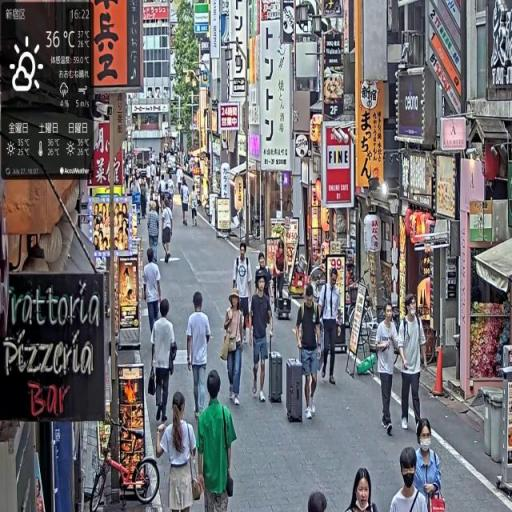person: (197, 370, 239, 512), (157, 390, 201, 512), (396, 293, 429, 439), (295, 283, 324, 420), (375, 301, 403, 439), (151, 297, 179, 429), (249, 272, 275, 406), (187, 290, 212, 427), (221, 290, 247, 410), (318, 265, 343, 388), (413, 418, 445, 512), (388, 446, 431, 512), (235, 243, 254, 344), (144, 248, 164, 342), (161, 198, 175, 267), (181, 179, 191, 229), (191, 185, 201, 228)
